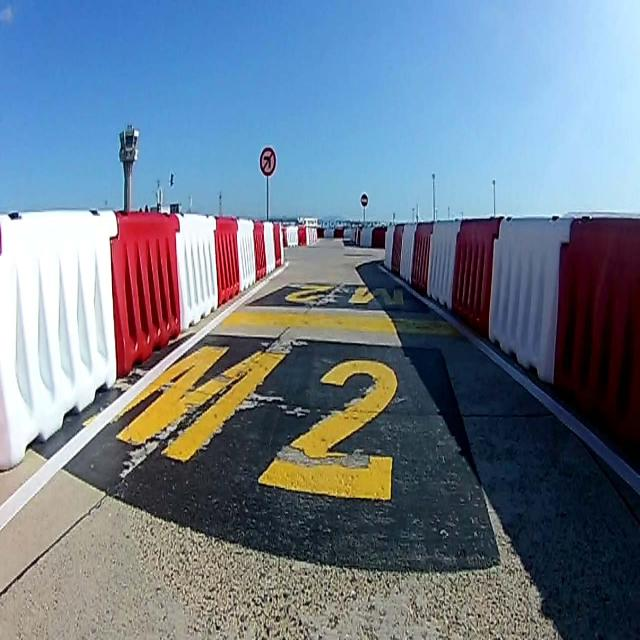soladonulmez: (260, 148, 276, 175)
